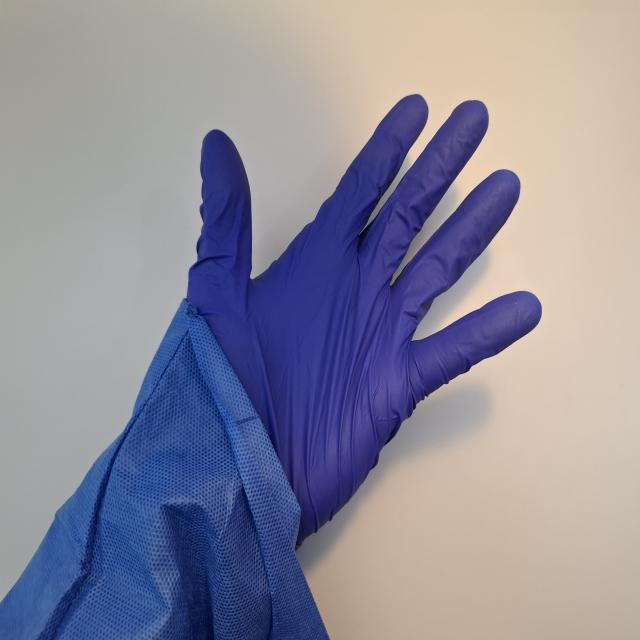glove_on: (168, 90, 545, 557)
